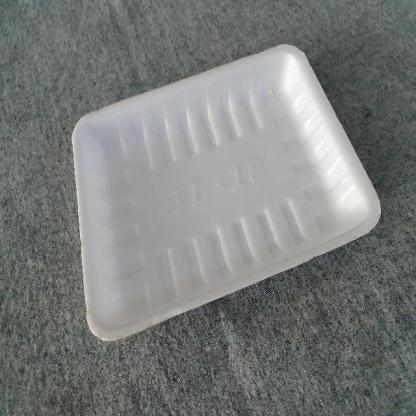Glass Cup: (72, 41, 382, 342), (72, 44, 381, 340)
